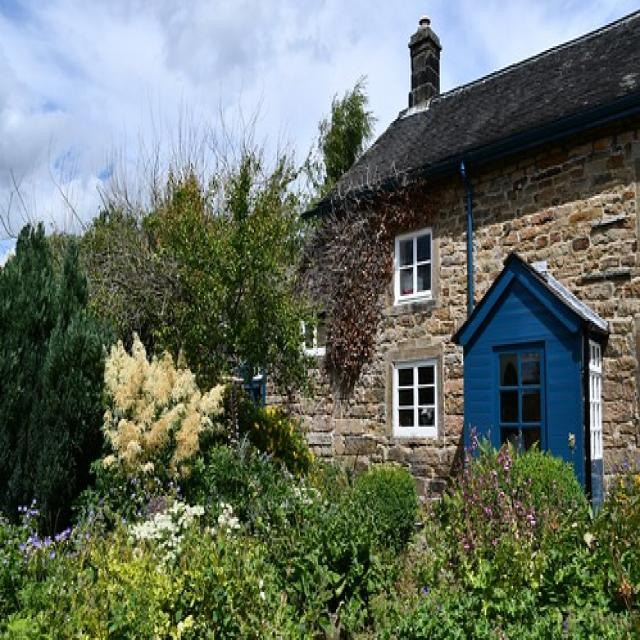Normal_building: (300, 1, 640, 566)
